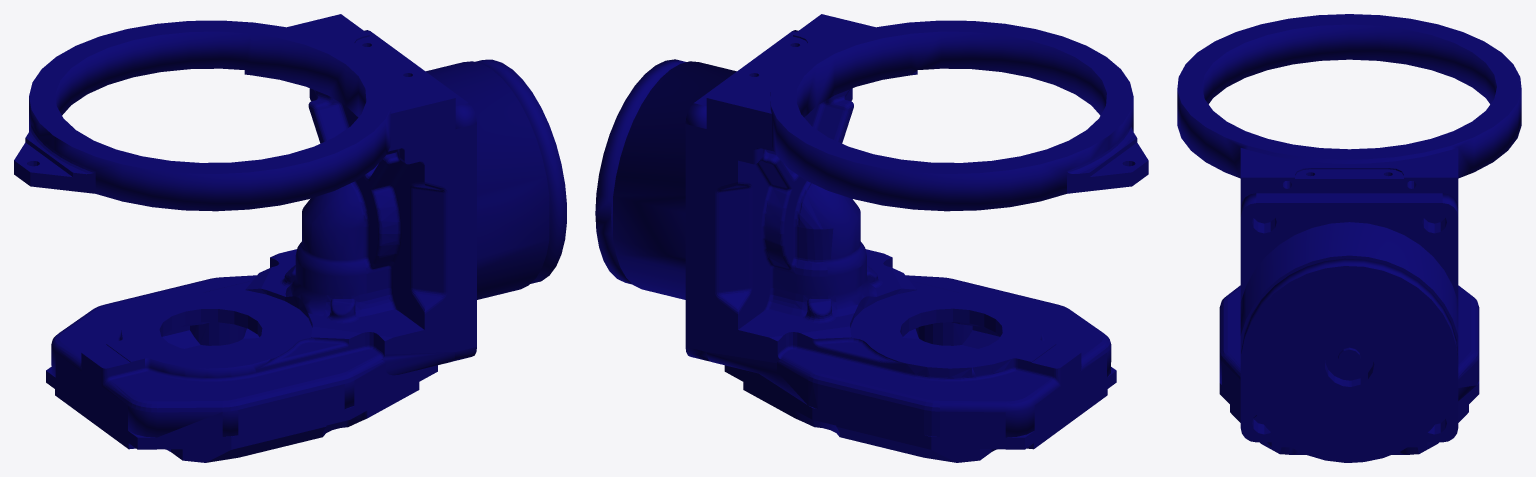
The model's file is B_axis.dae.
3 views of the same model, side by side, from view 1: azimuth 30°, elevation 25°; view 2: azimuth 150°, elevation 25°; view 3: azimuth 270°, elevation 25° (orthographic). The views are drawn at different scales.
Parts seen in each view (by area): view 1: ES165D Baxis; view 2: ES165D Baxis; view 3: ES165D Baxis.
Boxes of the visible parts, x1=… form: ES165D Baxis: x1=14, y1=14, x2=566, y2=462; ES165D Baxis: x1=595, y1=14, x2=1148, y2=462; ES165D Baxis: x1=1177, y1=14, x2=1521, y2=462.
Size of the model in its own units: 0.3435 by 0.2218 by 0.211.
